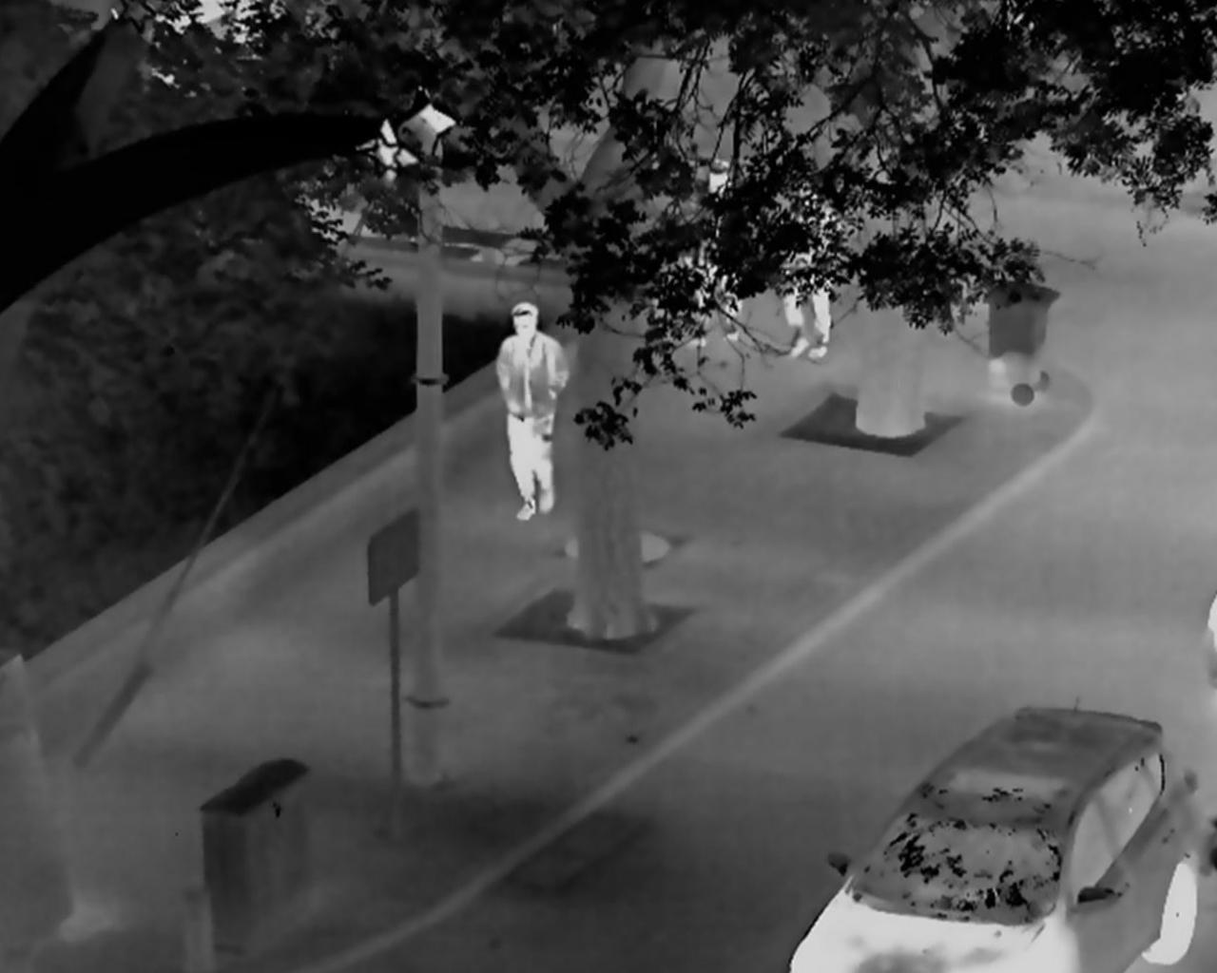person: (493, 302, 572, 526), (668, 159, 746, 351), (775, 172, 840, 362)
